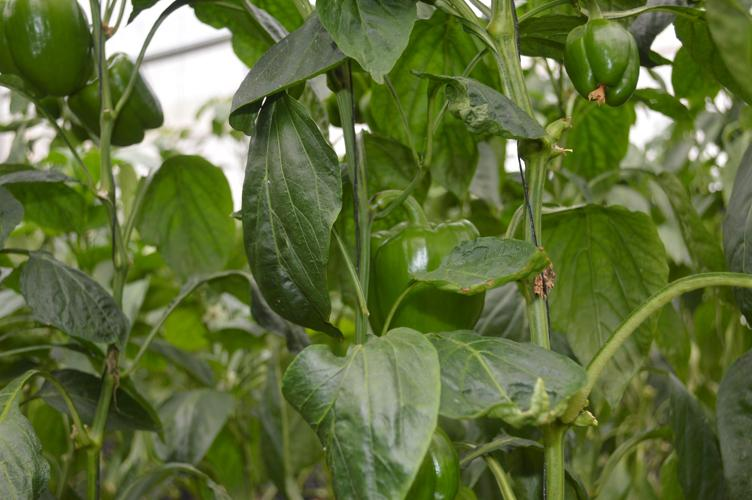BellPepper: (350, 204, 496, 333), (386, 389, 487, 500), (561, 14, 659, 117), (71, 58, 170, 153), (3, 1, 100, 95)
